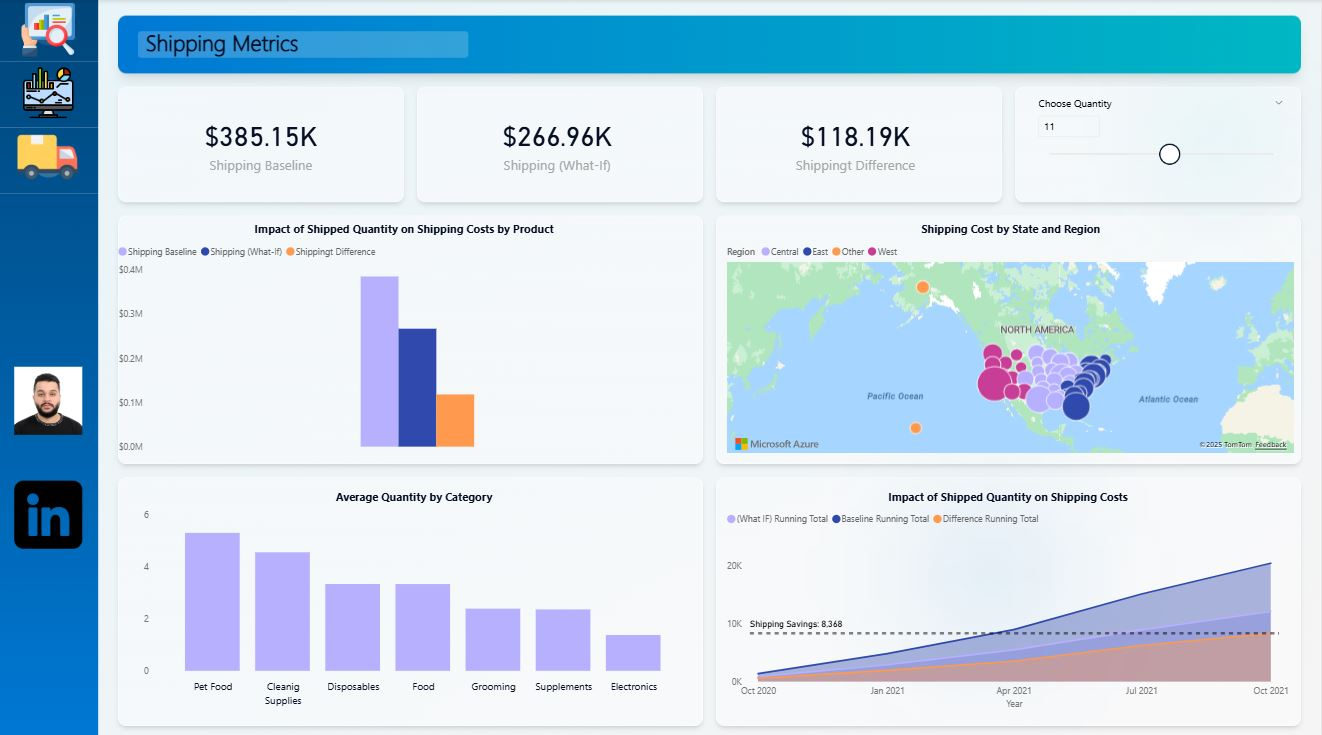

What the dashboard file says about the page in this screenshot:
{"tool":"powerbi","page":{"name":"Shipping Metrics","canvas":[1600,900],"ordinal":2},"visuals":[{"type":"slicer","fields":{"Values":["What if Quantity.What if Quantity"]},"box":[1245.2,113,321.7,120],"z":0},{"type":"clusteredColumnChart","title":"Impact of Shipped Quantity on Shipping Costs by Product","fields":{"Y":["_Measures.Shipping Baseline","_Measures.Shipping (What-If)","_Measures.Shippingt Difference"]},"box":[139.1,269.6,702.6,285.2],"z":1000},{"type":"card","fields":{"Values":["_Measures.Shipping Baseline"]},"box":[163.5,100.9,307.8,146.1],"z":2000},{"type":"card","fields":{"Values":["_Measures.Shipping (What-If)"]},"box":[521.7,100.9,307.8,146.1],"z":3000},{"type":"card","fields":{"Values":["_Measures.Shippingt Difference"]},"box":[888.7,100.9,297.4,146.1],"z":4000},{"type":"areaChart","title":"Impact of Shipped Quantity on Shipping Costs","fields":{"Y":["_Measures.(What IF) Running Total","_Measures.Baseline Running Total","_Measures.Difference Running Total"],"Category":["fact_sales.Transaction Date.Variation.Date Hierarchy.Year","fact_sales.Transaction Date.Variation.Date Hierarchy.Quarter"]},"box":[876.5,593,690.4,271.3],"z":5000},{"type":"clusteredColumnChart","title":"Average Quantity by Category","fields":{"Category":["dim_products.Category"],"Y":["Avg(fact_sales.Quantity)"]},"box":[163.5,593,678.3,271.3],"z":6000},{"type":"azureMap","title":"Shipping Cost by State and Region","fields":{"Category":["dim_state_mapping.State"],"Series":["dim_state_mapping.Region"],"Size":["_Measures.Shipping Baseline"]},"box":[876.5,269.6,697.4,285.2],"z":7000},{"type":"image","box":[0,0,119.1,74.7],"z":8000},{"type":"image","box":[0,149.3,119.1,83.6],"z":9000},{"type":"textbox","box":[172.4,28.4,300.4,76.4],"z":10000},{"type":"image","box":[14.2,574.2,92.4,101.3],"z":11000},{"type":"image","box":[13.9,412.2,92.2,149.6],"z":12000},{"type":"image","box":[0,76.4,119.1,72.9],"z":13000}]}

Visuals, with their boxes on the page's 1600x900 design canvas (x1, y1, x2, y2). These are canvas units, not pixel positions in the 1322x735 screenshot, which may show the page scaled, cropped or inside an application window:
slicer - What if Quantity.What if Quantity: left=1245, top=113, right=1567, bottom=233
"Impact of Shipped Quantity on Shipping Costs by Product" clusteredColumnChart: left=139, top=270, right=842, bottom=555
card - _Measures.Shipping Baseline: left=164, top=101, right=471, bottom=247
card - _Measures.Shipping (What-If): left=522, top=101, right=830, bottom=247
card - _Measures.Shippingt Difference: left=889, top=101, right=1186, bottom=247
"Impact of Shipped Quantity on Shipping Costs" areaChart: left=876, top=593, right=1567, bottom=864
"Average Quantity by Category" clusteredColumnChart: left=164, top=593, right=842, bottom=864
"Shipping Cost by State and Region" azureMap: left=876, top=270, right=1574, bottom=555
image: left=0, top=0, right=119, bottom=75
image: left=0, top=149, right=119, bottom=233
textbox: left=172, top=28, right=473, bottom=105
image: left=14, top=574, right=107, bottom=676
image: left=14, top=412, right=106, bottom=562
image: left=0, top=76, right=119, bottom=149
